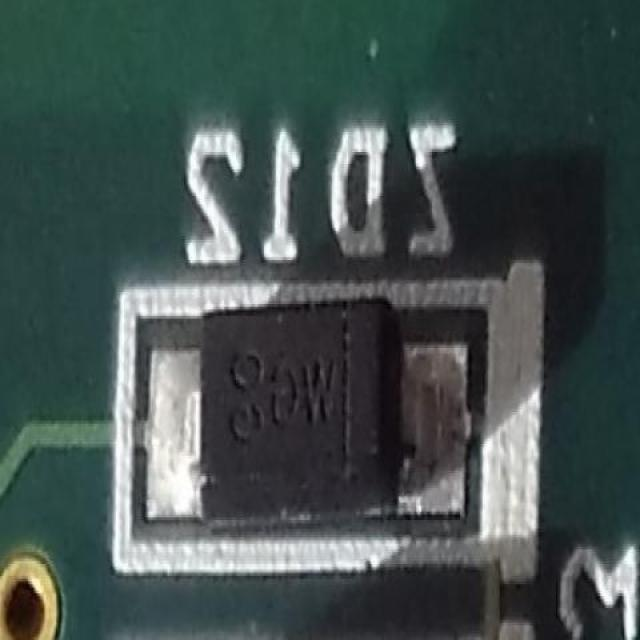diode: (150, 278, 468, 538)
